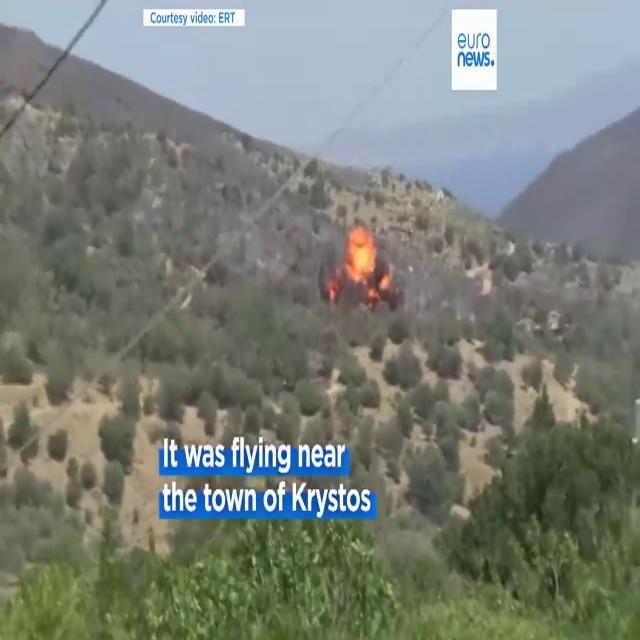Fire: (342, 218, 384, 293)
